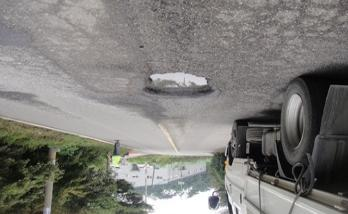pothole: (142, 70, 216, 100)
